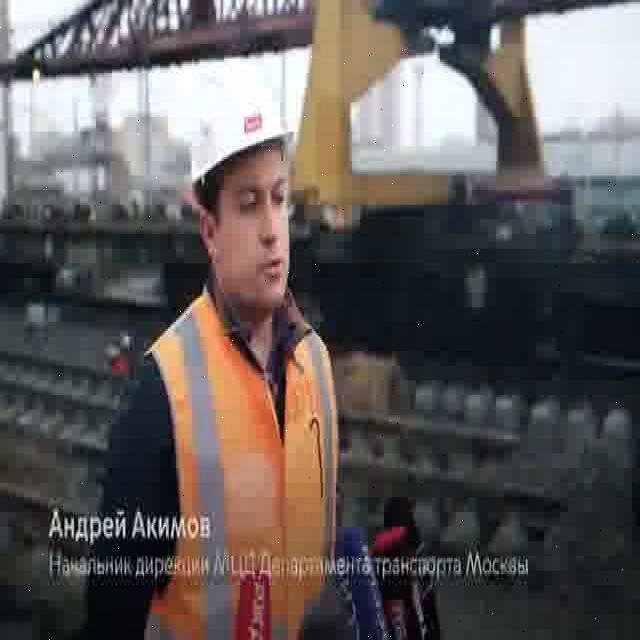Hard_hat: (192, 73, 297, 184)
Vest: (146, 307, 336, 565)
